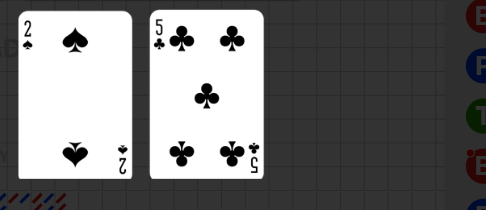2S: (116, 142, 129, 175)
5C: (247, 140, 261, 175)
